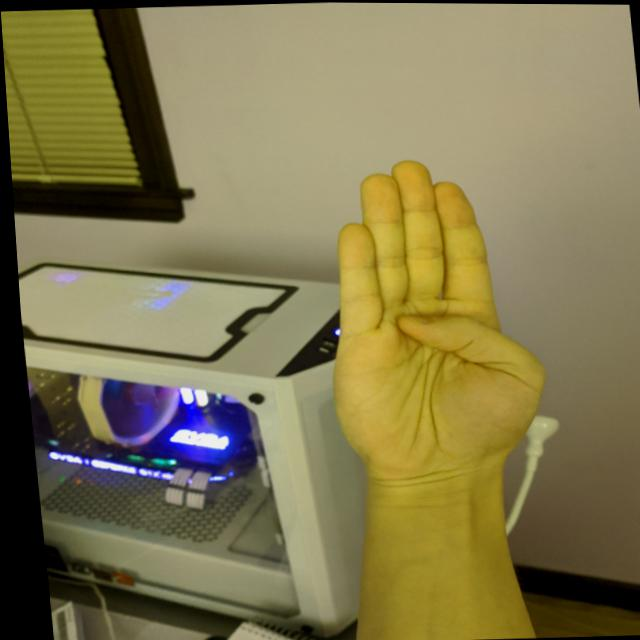B: (297, 148, 557, 495)
